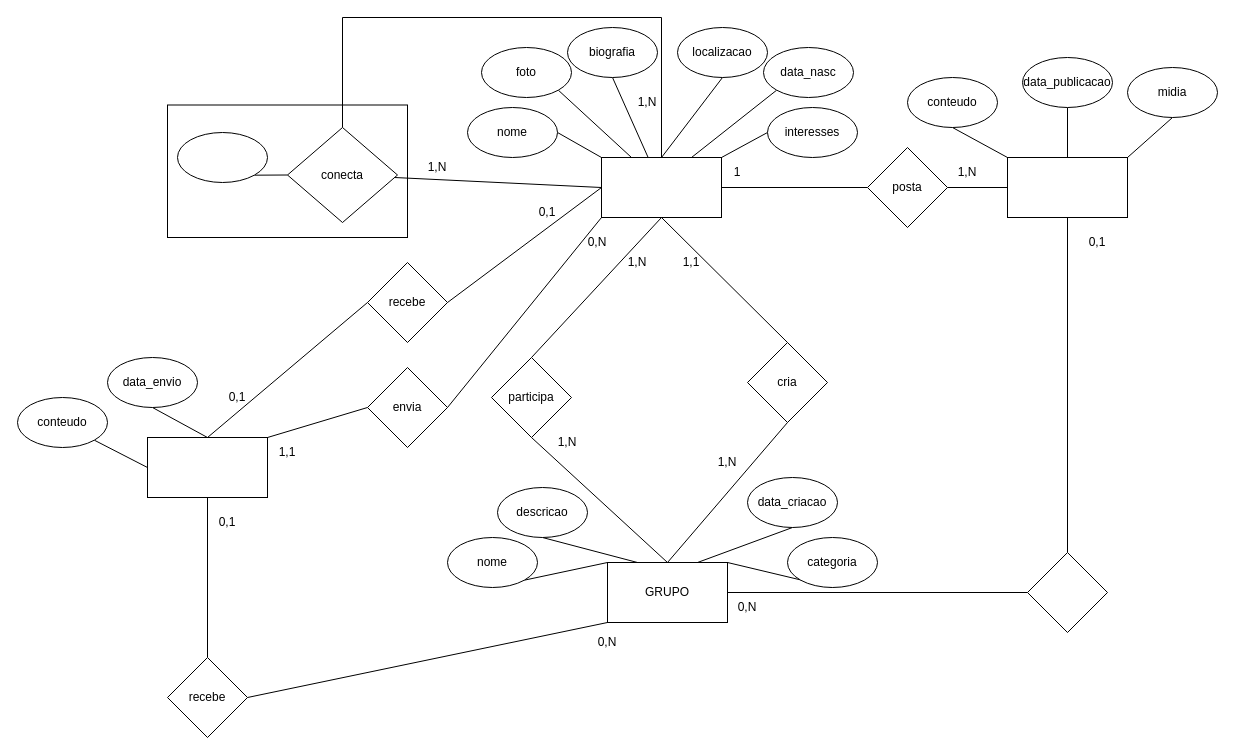
The diagram is 1235 pixels wide and 755 high, and some of its shapes have lost their labels. The centre of each missing label's shape, as x and y in pixels:
data_conexao: point (222, 157)
MENSAGEM: point (207, 467)
POSTAGEM: point (1067, 187)
publica em: point (1067, 592)
USUARIO: point (661, 187)
